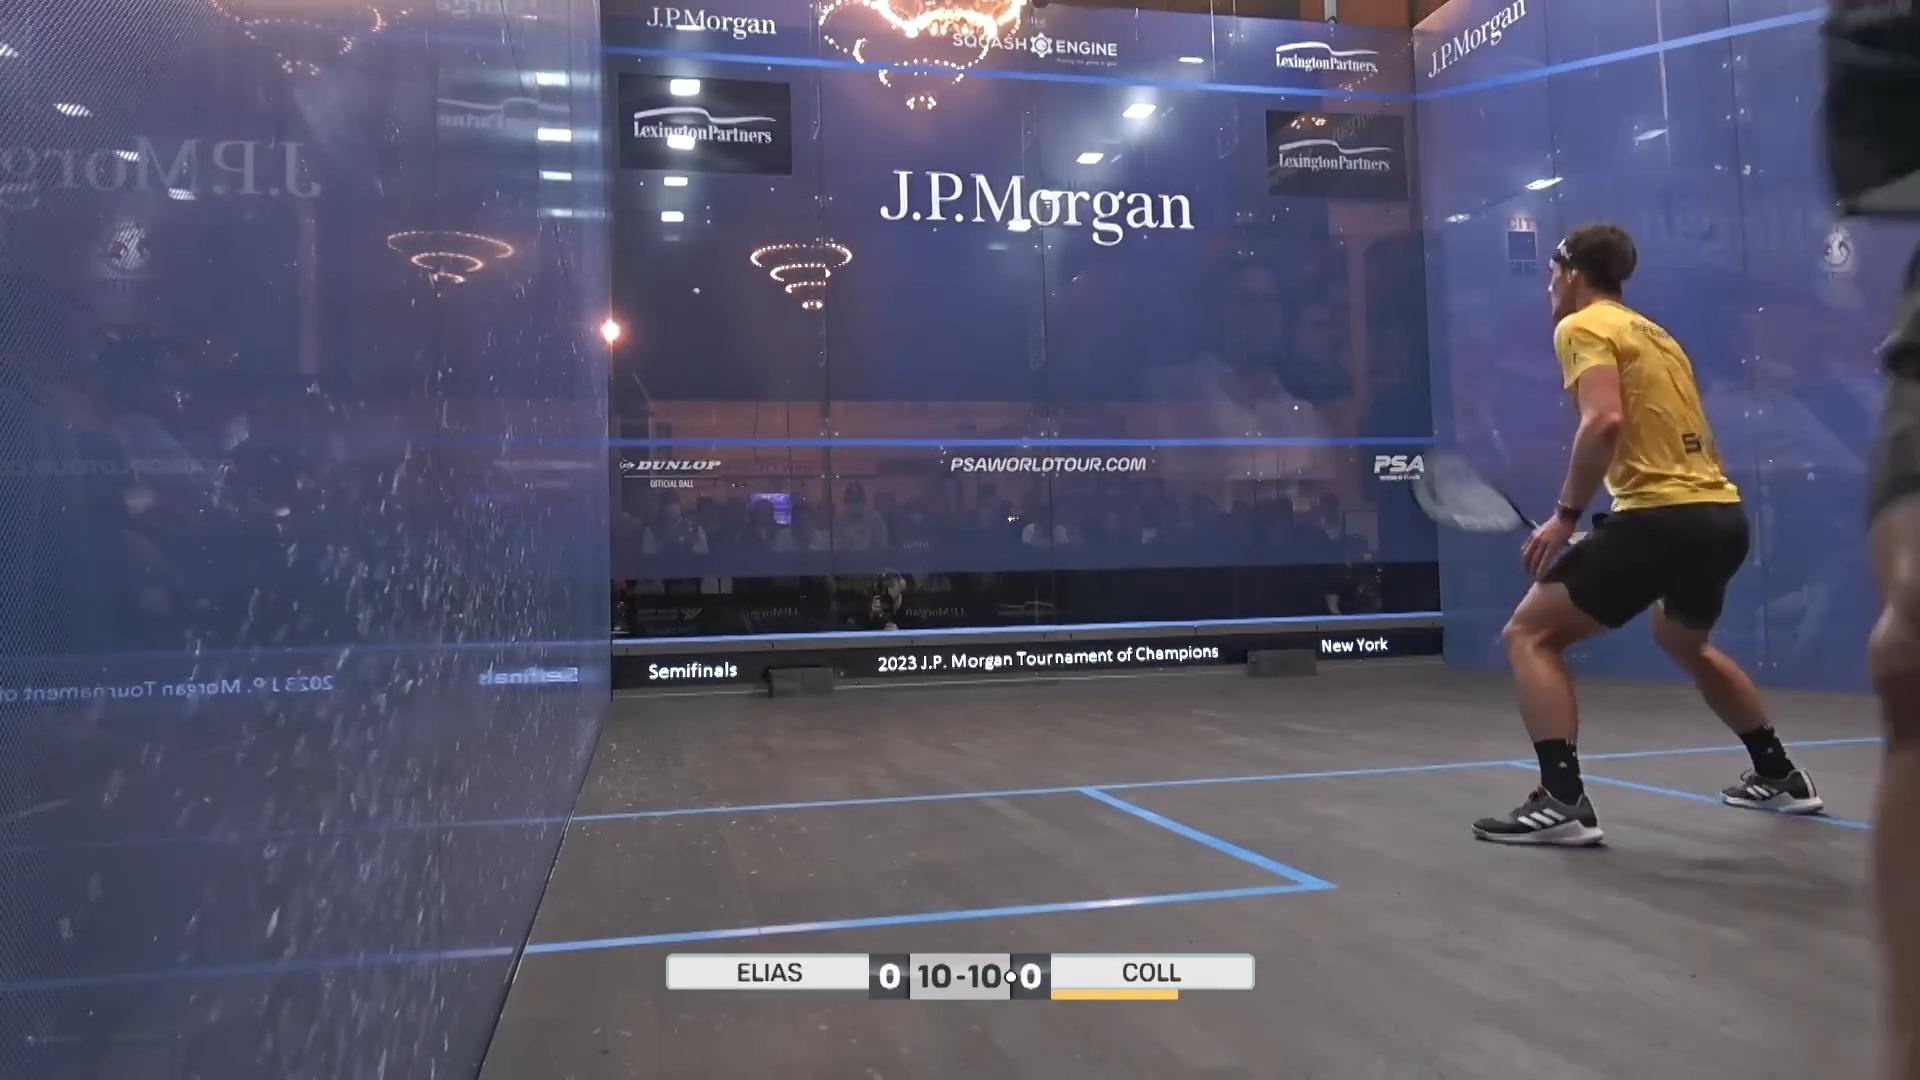Racket: (1406, 440, 1549, 546)
